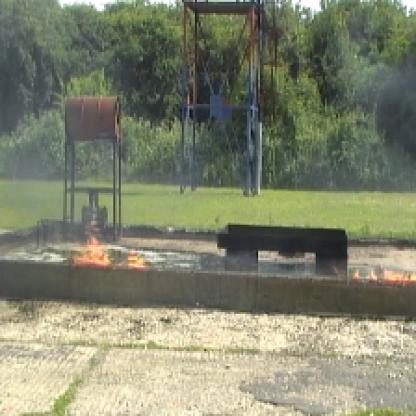Fire: (67, 223, 152, 277), (351, 264, 414, 290)
